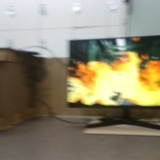fire: (70, 40, 160, 107)
